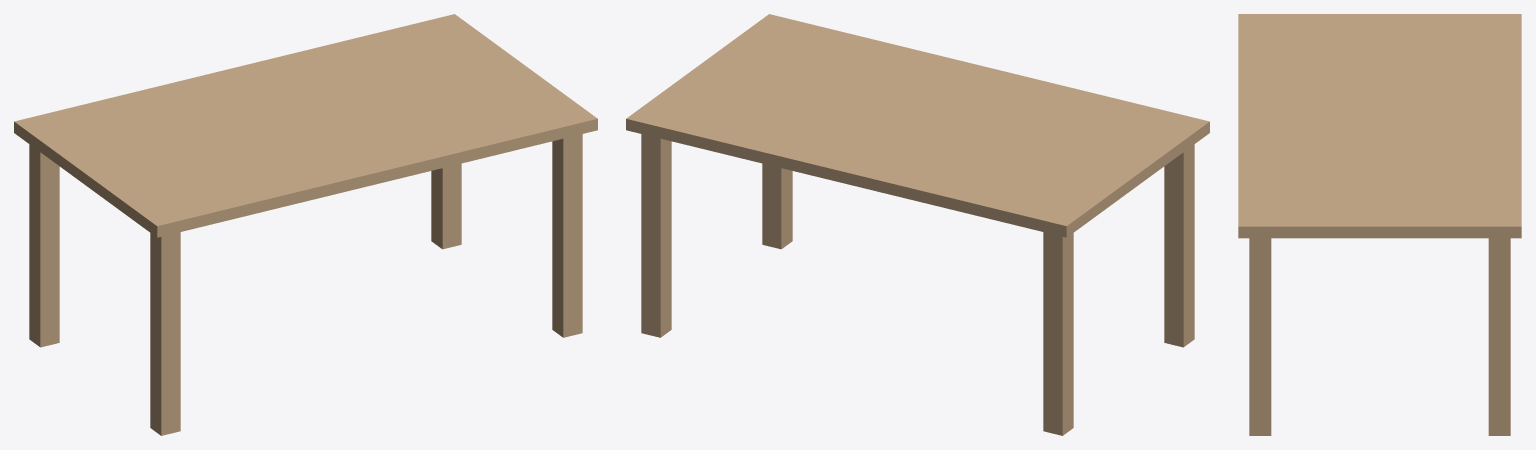
Rendered from dining-table.glb.
The picture shows the model from 3 angles, left to right: view 1: azimuth 30°, elevation 25°; view 2: azimuth 150°, elevation 25°; view 3: azimuth 270°, elevation 25°; orthographic projection.
Parts seen in each view (by area): view 1: Top, Leg (×4); view 2: Top, Leg (×4); view 3: Top, Leg (×2).
Boxes of the visible parts, x1,y1,x2,y2 form: Top: (14,14,597,237); Leg (×4): (29,134,582,435); Top: (626,14,1209,237); Leg (×4): (641,134,1194,435); Top: (1238,14,1521,238); Leg (×2): (1249,238,1510,435).
Bounding box in the file's own units: 1.6 × 0.75 × 0.9.
